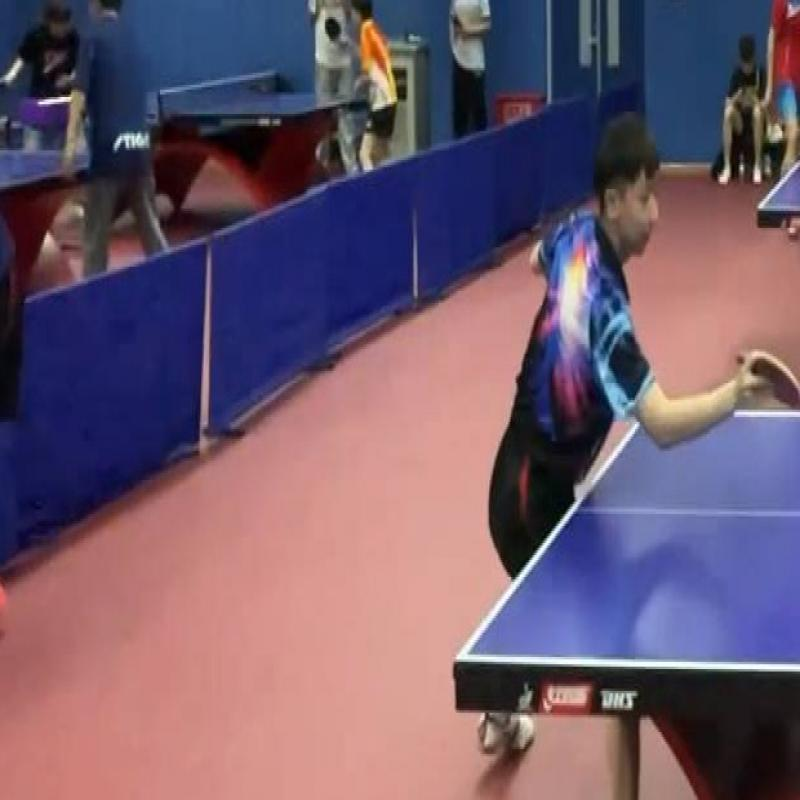bats: (727, 317, 800, 426)
